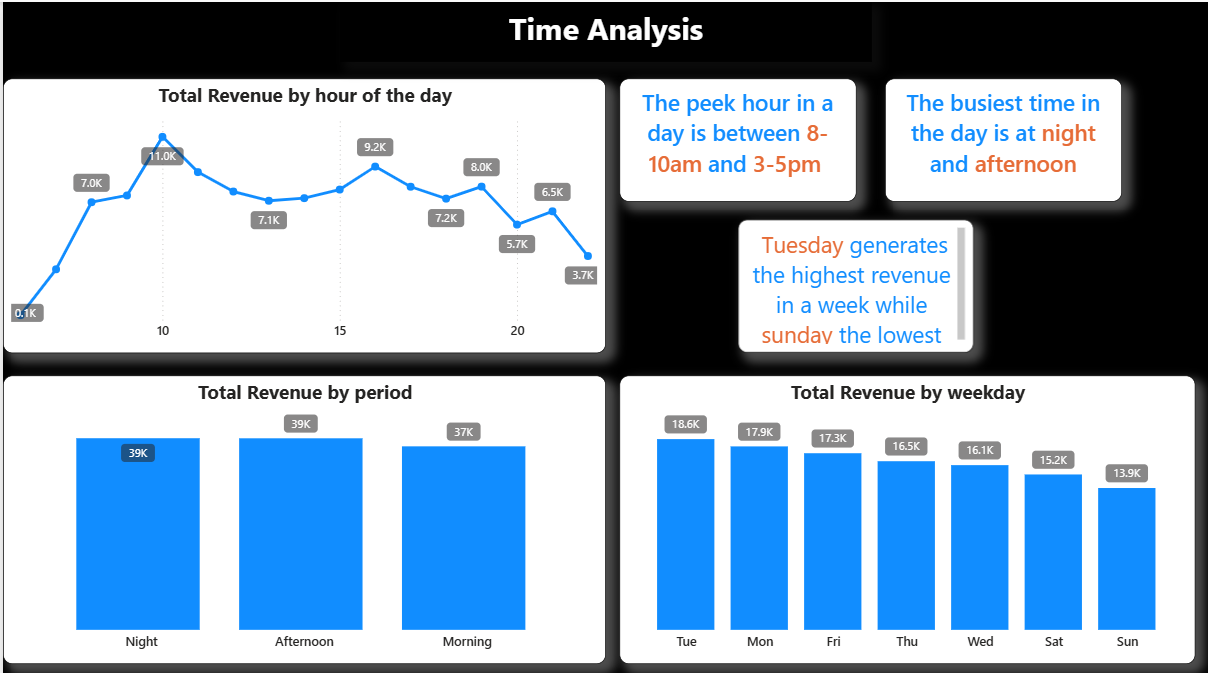

Layout of this report page (visuals, bound fields, positions):
{"tool":"powerbi","page":{"name":"Time Analysis","canvas":[1280,720],"ordinal":2},"visuals":[{"type":"lineChart","title":"Total Revenue by hour of the day","fields":{"Category":["CoffeeSalesData.hour_of_day"],"Y":["CoffeeSalesData.Total Revenue"]},"box":[0,81,639.6,291.5],"z":0},{"type":"columnChart","title":"Total Revenue by weekday","fields":{"Y":["CoffeeSalesData.Total Revenue"],"Category":["CoffeeSalesData.Weekday"]},"box":[654.2,396.7,610.4,306],"z":1000},{"type":"columnChart","title":"Total Revenue by period","fields":{"Category":["CoffeeSalesData.Time_of_Day"],"Y":["CoffeeSalesData.Total Revenue"]},"box":[0,396.7,639.6,306],"z":2000},{"type":"textbox","box":[357.8,0,563.5,63.1],"z":3000},{"type":"textbox","box":[779.4,230.6,249.7,141.6],"z":4000},{"type":"textbox","box":[935.3,81.1,251.3,130.4],"z":5000},{"type":"textbox","box":[653.7,81.1,251.3,130.4],"z":6000}]}

Visuals, with their boxes in screenshot pixels (x1, y1, x2, y2), scaled from the page's 1280x720 canvas onto the 1208x673 screenshot:
"Total Revenue by hour of the day" lineChart: 0/76/604/348
"Total Revenue by weekday" columnChart: 617/371/1193/657
"Total Revenue by period" columnChart: 0/371/604/657
textbox: 338/0/869/59
textbox: 736/216/971/348
textbox: 883/76/1120/198
textbox: 617/76/854/198
